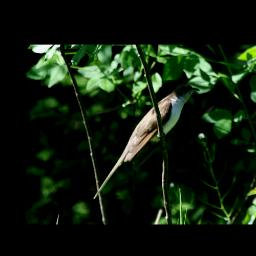Cuckoo: (92, 83, 199, 201)
